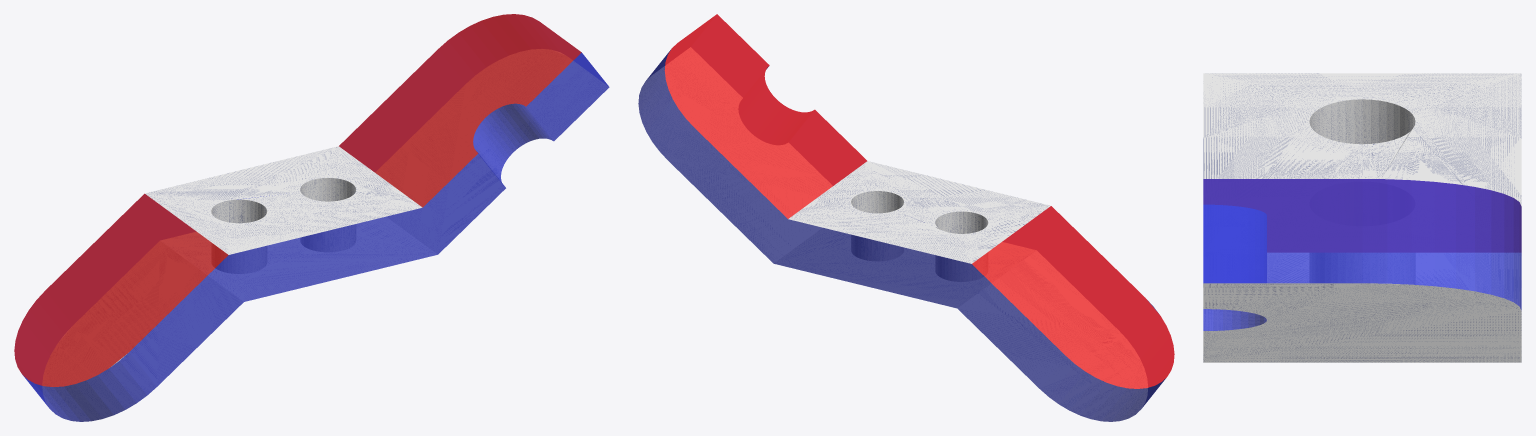
The model's file is SOLIDO-VISTA-AUXILIAR0.dae.
3 renders of one model, left to right at view 1: azimuth 30°, elevation 25°; view 2: azimuth 150°, elevation 25°; view 3: azimuth 270°, elevation 25°, orthographic. The views are drawn at different scales.
Parts seen in each view (by area): view 1: Group_5 (×7); view 2: Group_5 (×7); view 3: Group_5 (×6).
Boxes of the visible parts, left/top/right/bottom form: Group_5 (×7): left=14, top=14, right=609, bottom=421; Group_5 (×7): left=638, top=14, right=1174, bottom=421; Group_5 (×6): left=1203, top=73, right=1521, bottom=362.
Size of the model in its own units: 4.38 by 1.18 by 2.13.
